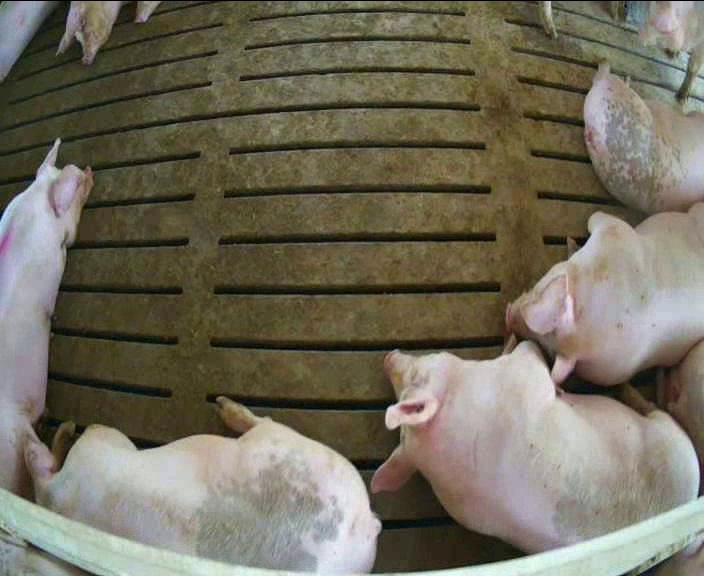pig: (371, 334, 697, 552), (24, 399, 380, 573), (507, 203, 703, 384), (0, 139, 92, 495), (584, 65, 703, 212)
